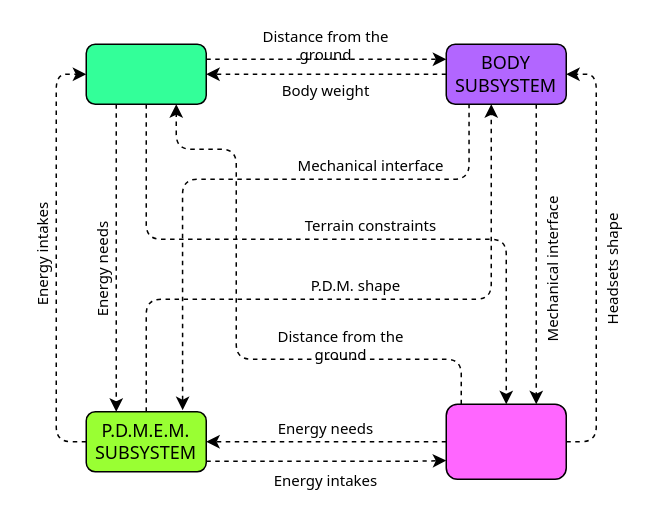
This 651x519 diagram has some shape labels left out. The shapes that lost their labels are listed below. From the top down, each one's centre as x and y in pixels, then its label:
At point (145, 73): "MOBILITY SUBSYSTEM".
At point (505, 441): "ROBOTIC ARM SUBSYSTEM".
